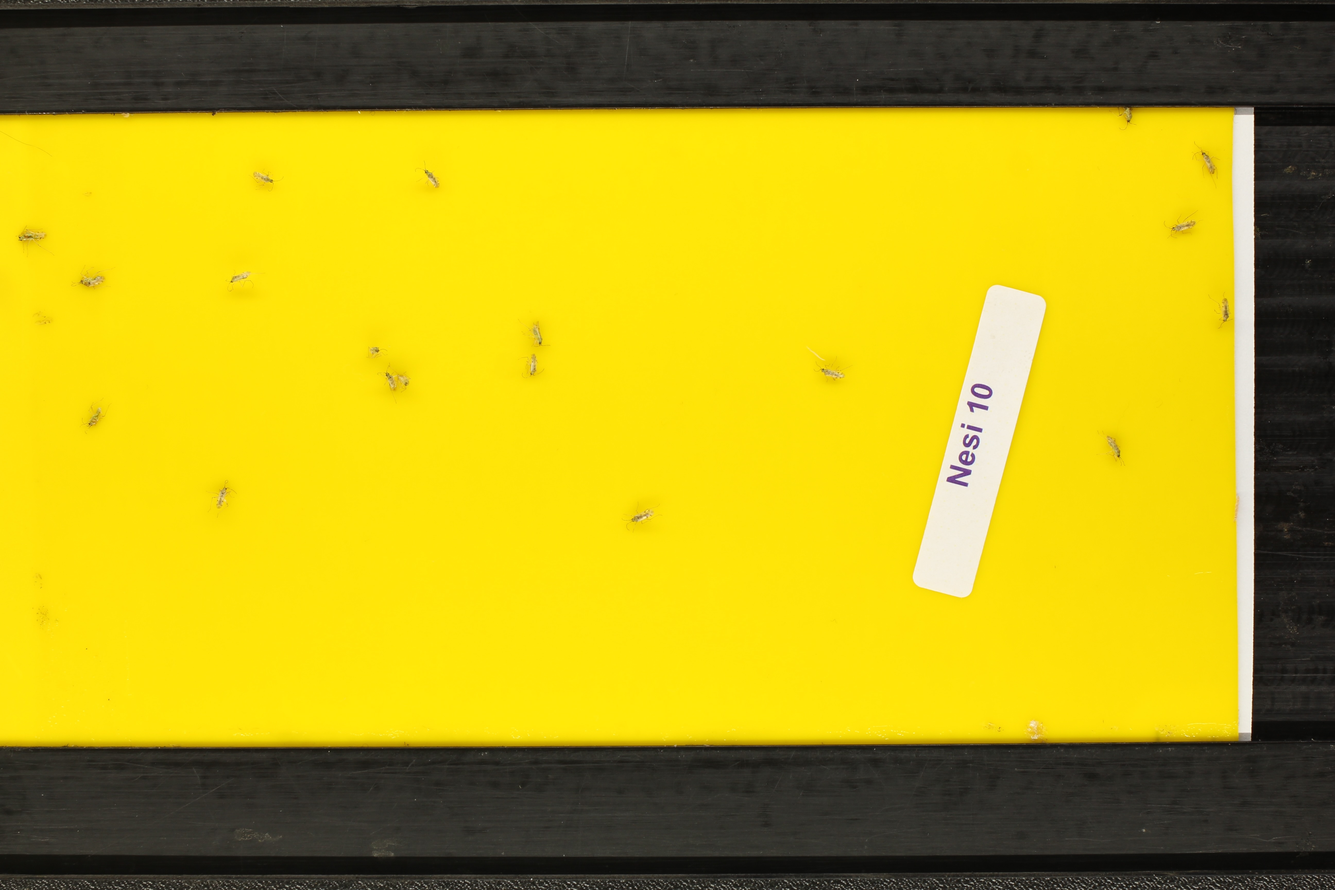NC: (621, 500, 664, 535), (1100, 427, 1135, 470), (1190, 140, 1221, 188), (206, 475, 240, 515), (12, 222, 53, 251), (1166, 208, 1203, 239), (522, 316, 553, 350), (222, 263, 258, 292), (813, 358, 851, 385), (1207, 289, 1232, 330), (409, 160, 442, 191), (70, 265, 110, 290), (81, 398, 112, 429), (375, 364, 400, 402), (522, 350, 546, 387), (248, 166, 281, 192), (1115, 103, 1142, 131)
